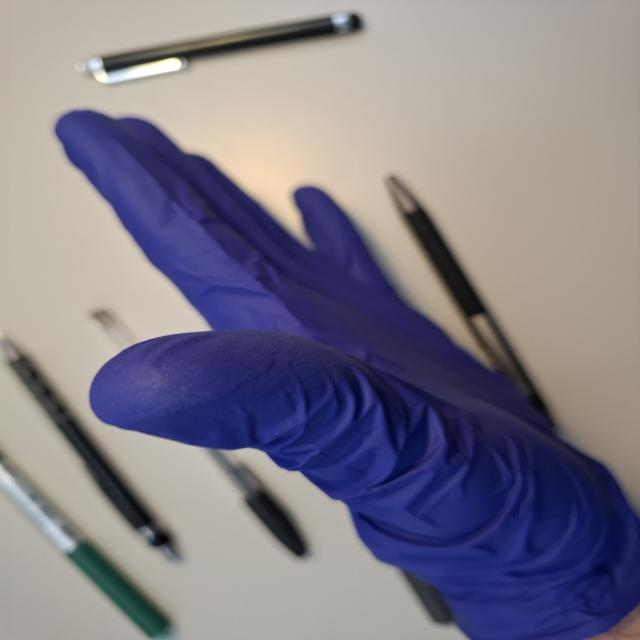glove_on: (45, 104, 640, 634)
